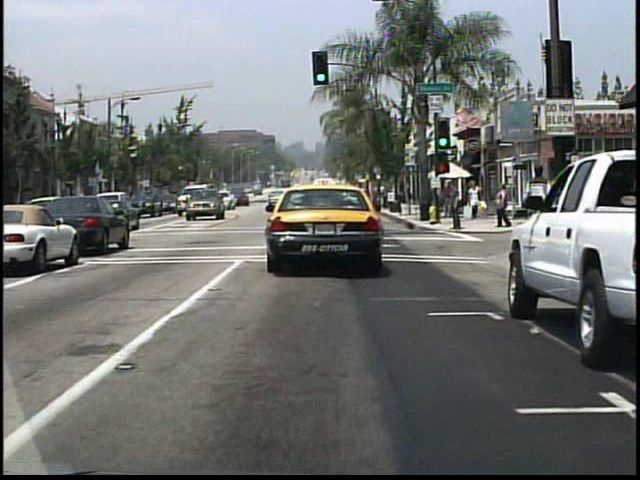person: (521, 159, 553, 256), (494, 181, 512, 228), (449, 182, 465, 233), (469, 180, 484, 220), (443, 182, 453, 218)
